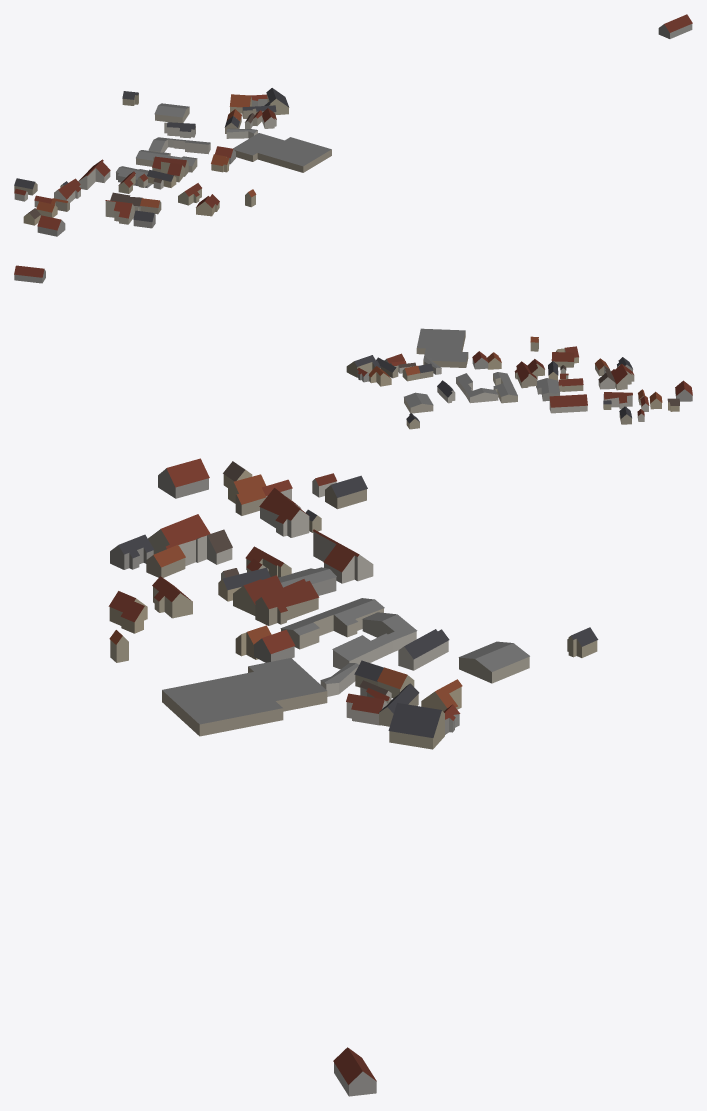
3 views of the same model, one above another, from view 1: azimuth 30°, elevation 25°; view 2: azimuth 150°, elevation 25°; view 3: azimuth 270°, elevation 25° (orthographic). The views are drawn at different scales.
Visible parts, largest first — view 1: buildings; view 2: buildings; view 3: buildings.
Part boxes in pixels (x1=…): buildings: x1=14, y1=14, x2=692, y2=236; buildings: x1=14, y1=265, x2=692, y2=429; buildings: x1=108, y1=458, x2=598, y2=1096.
Size of the model in its own units: 664 by 23.34 by 222.
